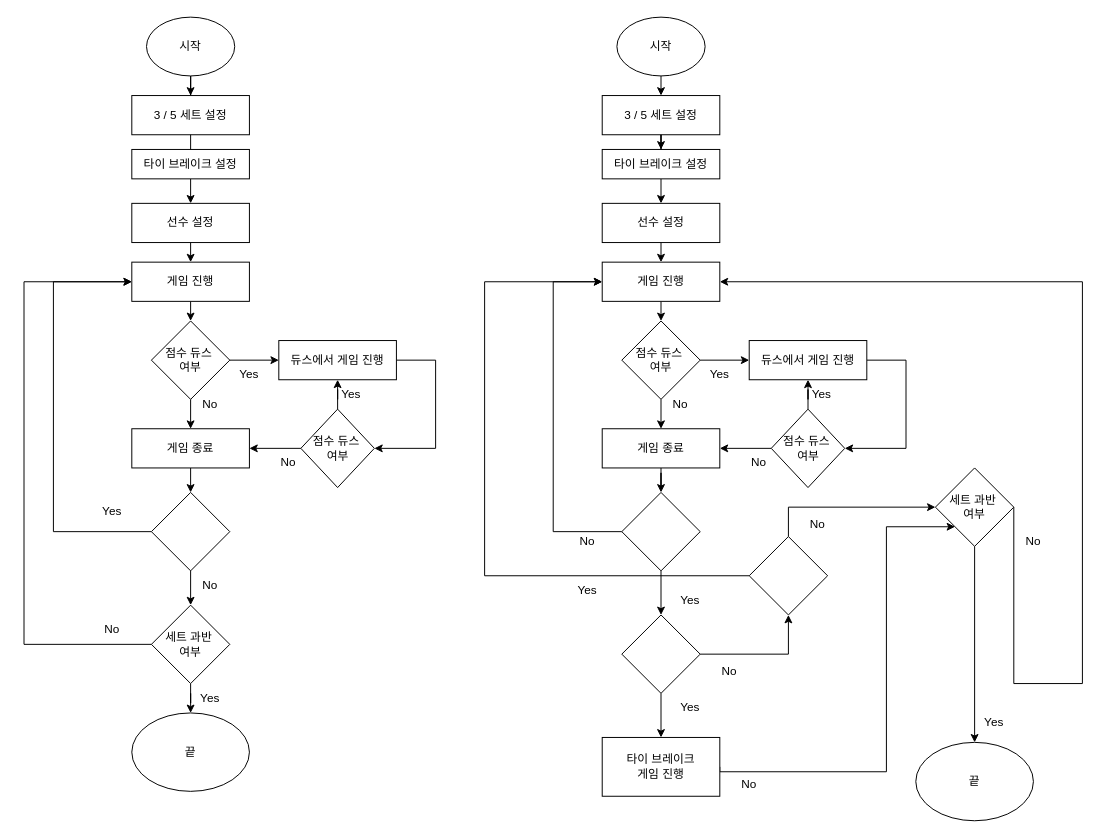
This 1107x838 diagram has some shape labels left out. The shapes that lost their labels are listed below. From the top down, each one's box as (x1, y1, x2, y2) in pixels, then its label:
(150, 491, 230, 571): 게임 듀스 여부
(621, 491, 700, 571): 한 팀의 6게임 도달 여부
(748, 536, 828, 615): 예외 여부
(621, 614, 700, 693): 6:6 여부
